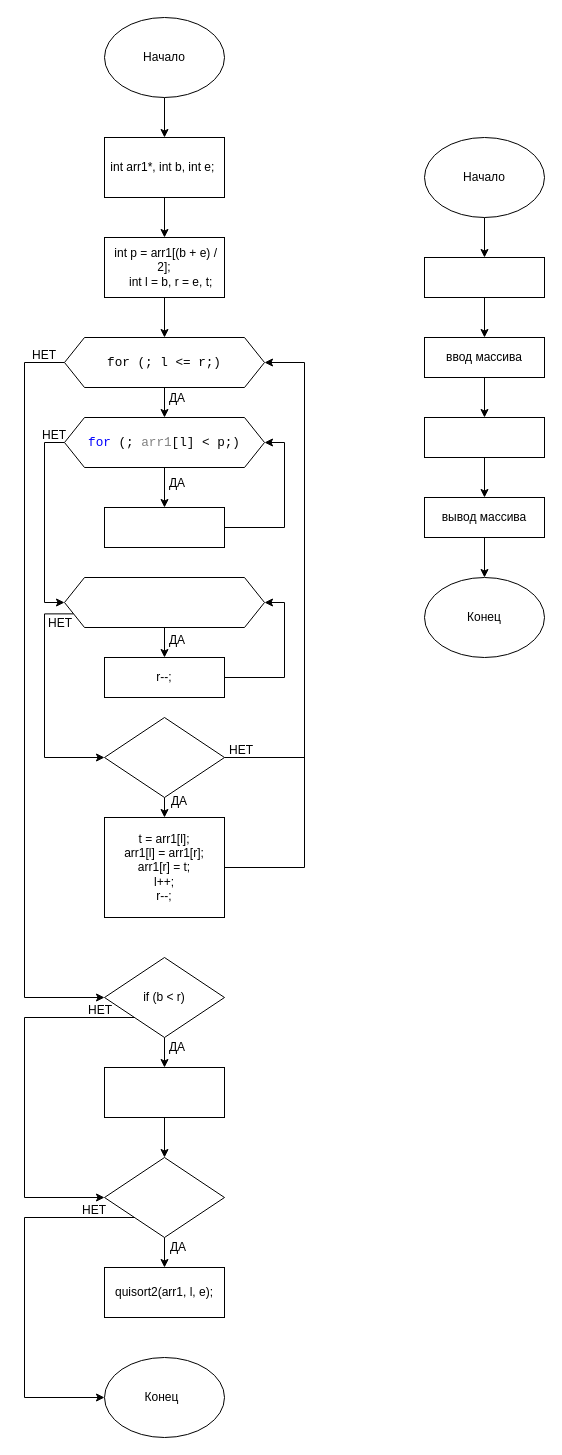
The diagram is 562 pixels wide and 1455 high, and some of its shapes have lost their labels. Here are the shapes that lost their labels. From the top down, the centre of each, then its label:
(x=484, y=277): int arr[10];
(x=484, y=437): quisort2(arr1, 0, 9);
(x=164, y=527): l++;
(x=164, y=602): for (; arr1 [r] > p;)
(x=164, y=757): (l <= r)
(x=164, y=1092): quisort2(arr1, b, r);
(x=164, y=1197): if (l < e)
